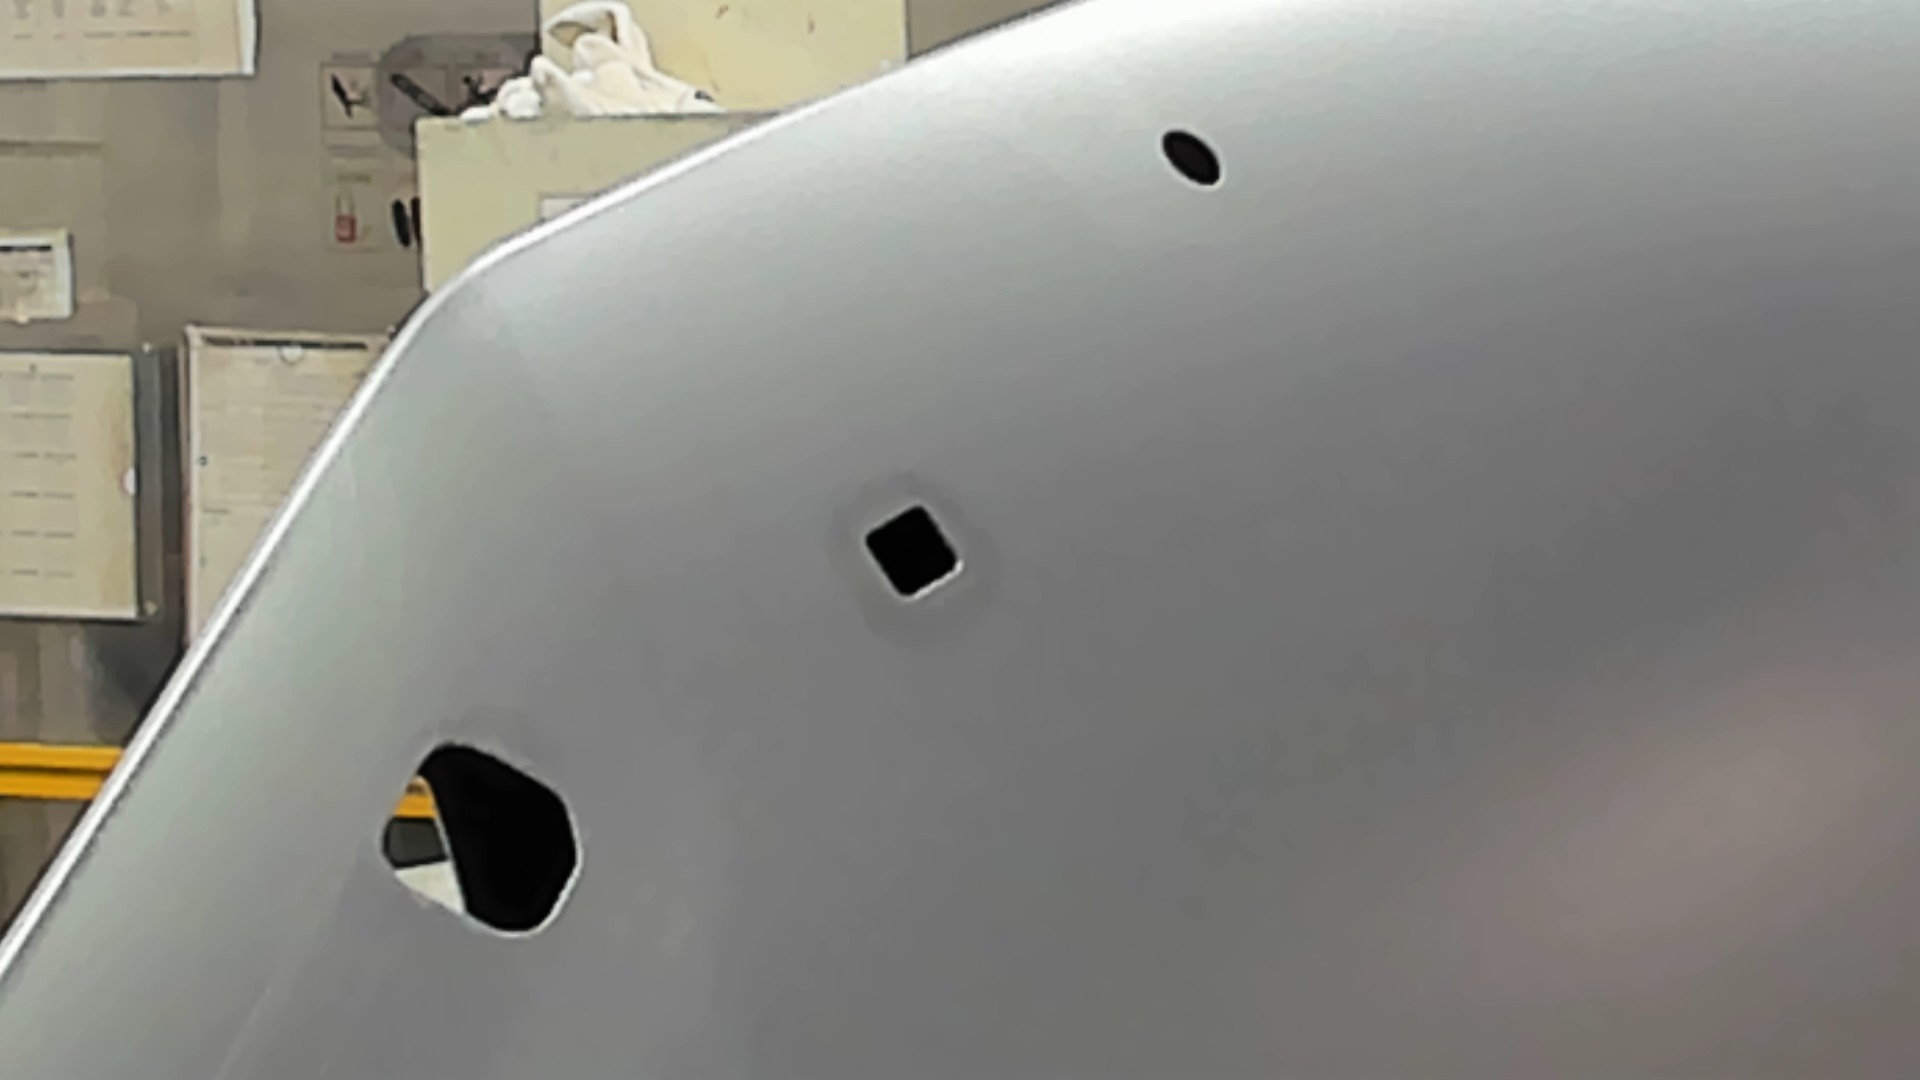chico: (1156, 127, 1224, 191)
grande: (377, 738, 587, 942)
mediano: (858, 501, 964, 603)
